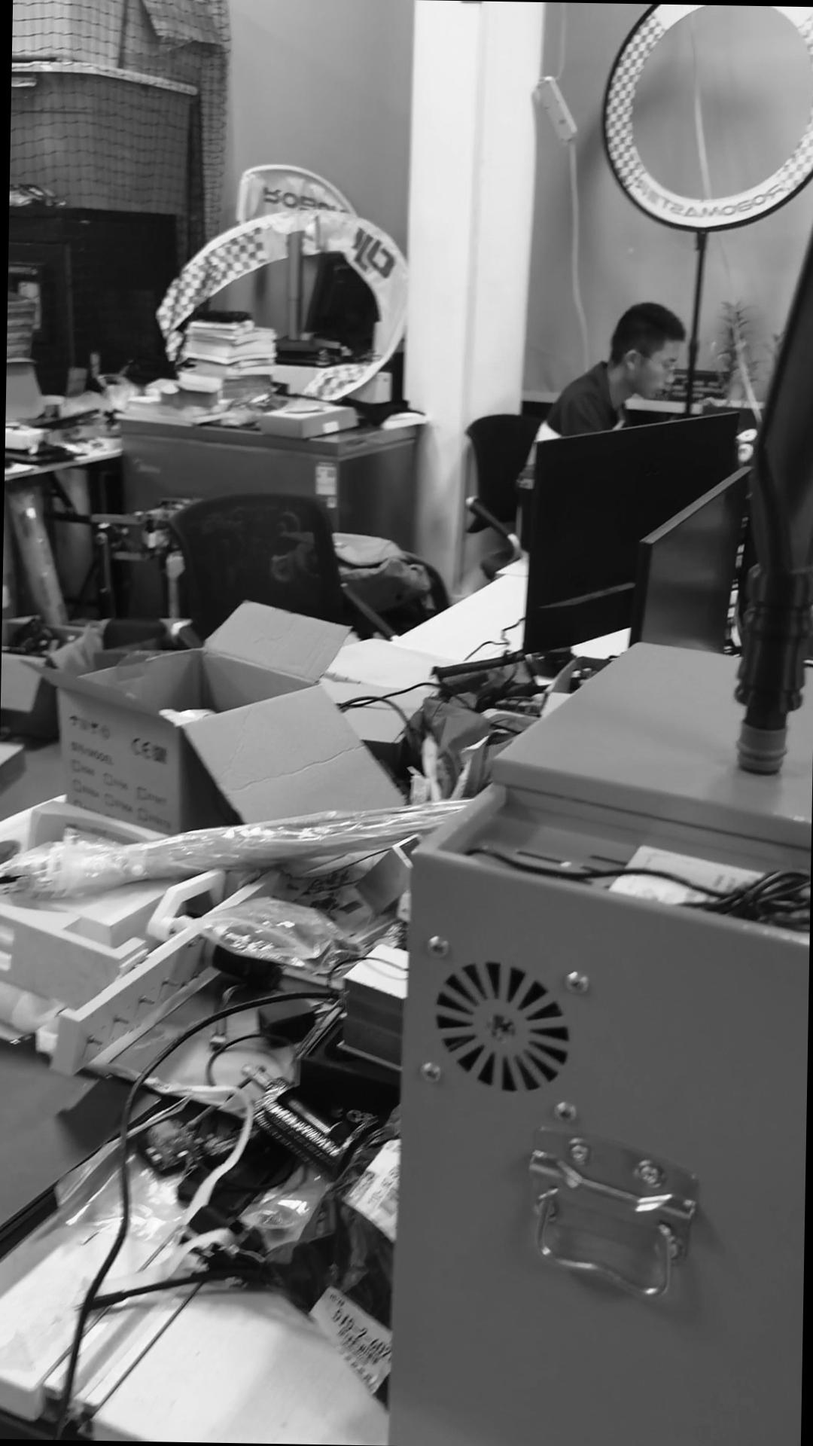base: (735, 717, 786, 776)
